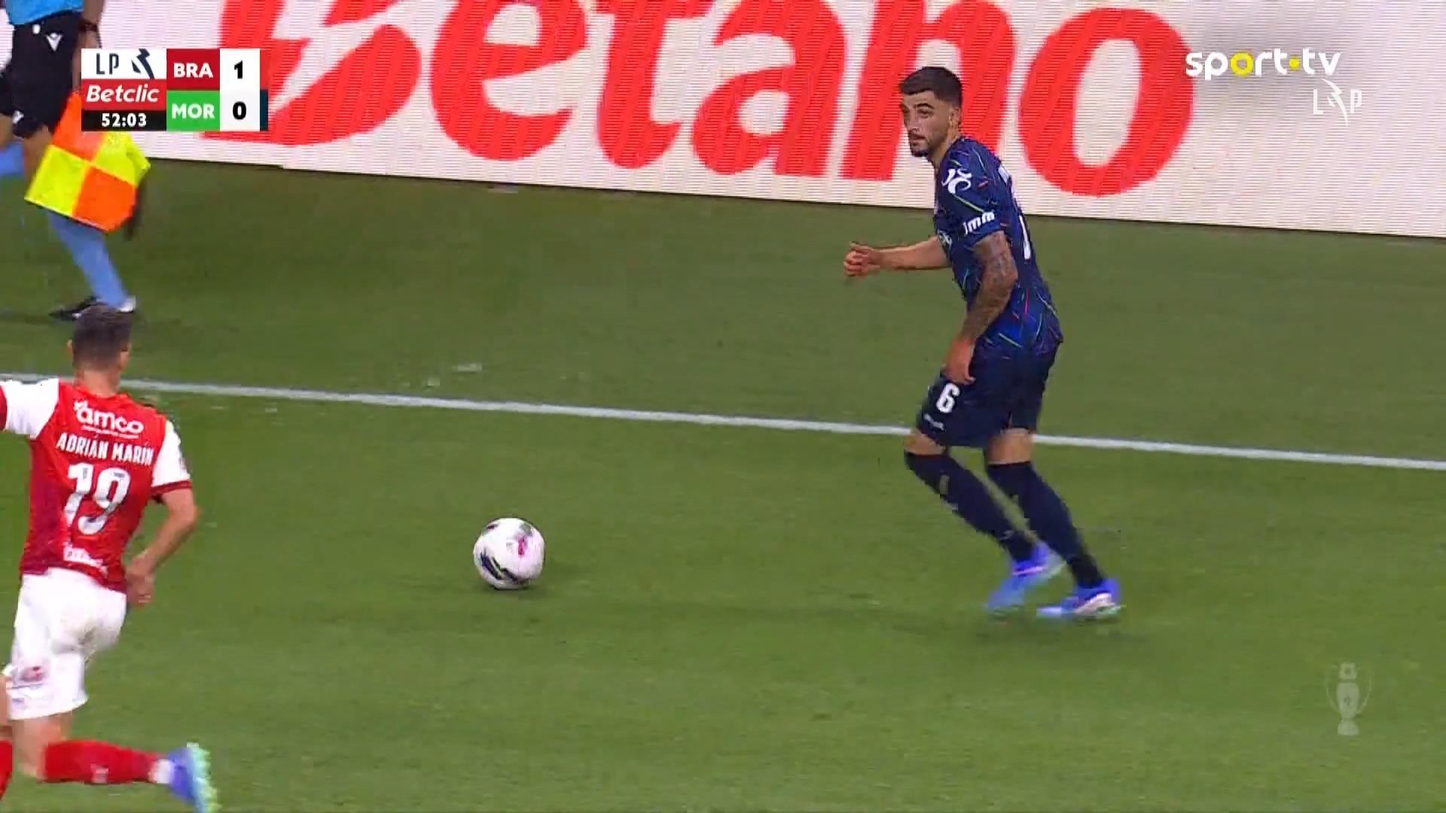ball: (471, 516, 545, 591)
player: (841, 64, 1124, 623), (1, 300, 219, 811)
referee: (0, 1, 151, 323)
